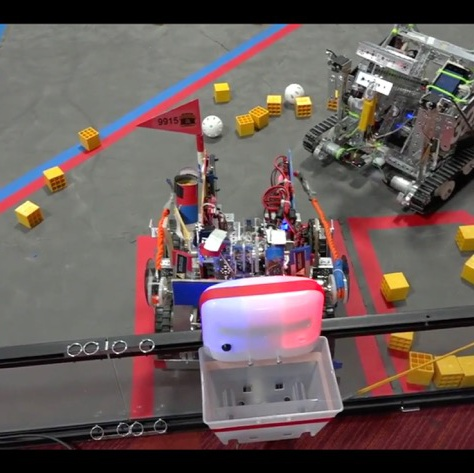robot: (136, 94, 350, 382), (300, 22, 474, 221)
